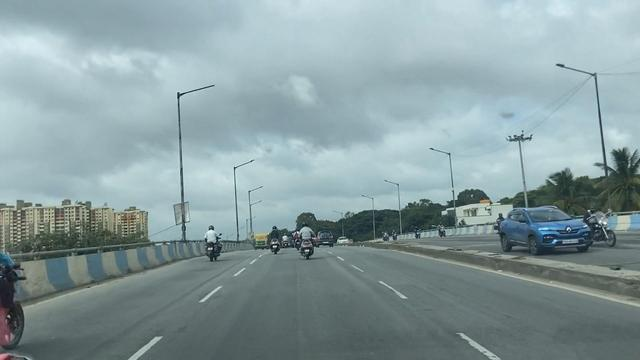LMV: (208, 226, 223, 264), (298, 225, 314, 260), (270, 225, 282, 261), (319, 233, 333, 250), (255, 233, 267, 250)
